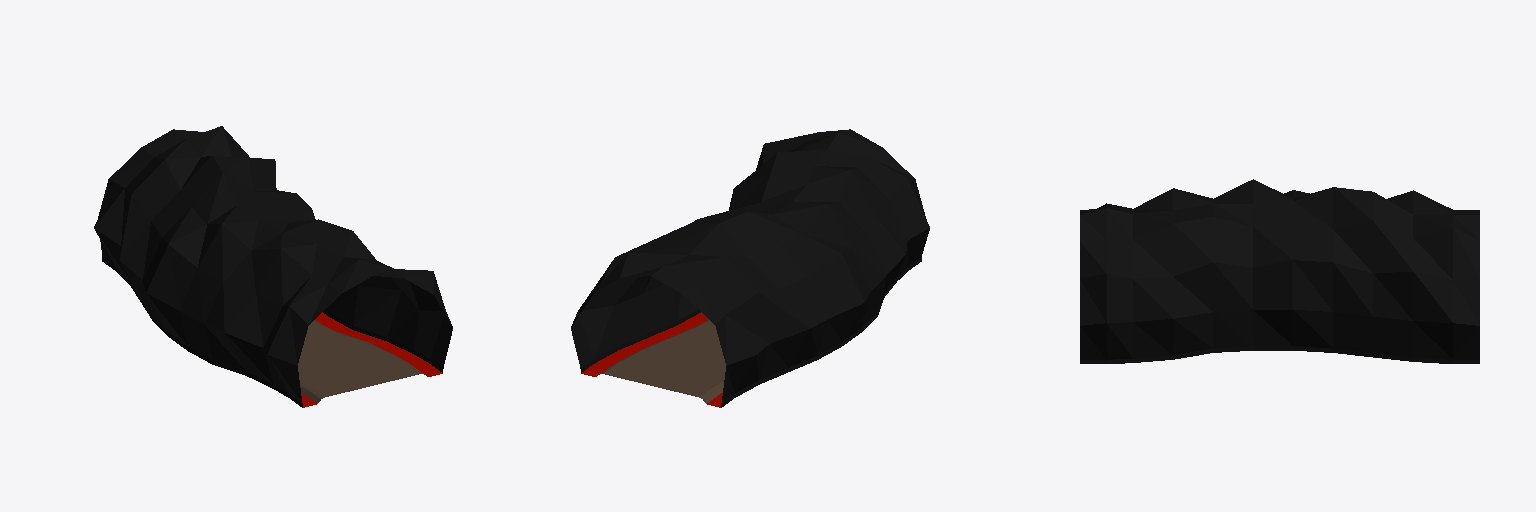
File: HellBowlingStraightC.obj
3 views of the same model, side by side, from view 1: azimuth 30°, elevation 25°; view 2: azimuth 150°, elevation 25°; view 3: azimuth 270°, elevation 25° (orthographic).
Parts seen in each view (by area): view 1: StraightC_Collision_Circle.013; view 2: StraightC_Collision_Circle.013; view 3: StraightC_Collision_Circle.013.
Boxes of the visible parts, <box> form: StraightC_Collision_Circle.013: <box>94,126,452,407</box>; StraightC_Collision_Circle.013: <box>571,129,929,407</box>; StraightC_Collision_Circle.013: <box>1080,179,1479,363</box>.
Size of the model in its own units: 1788 by 1087 by 3000.